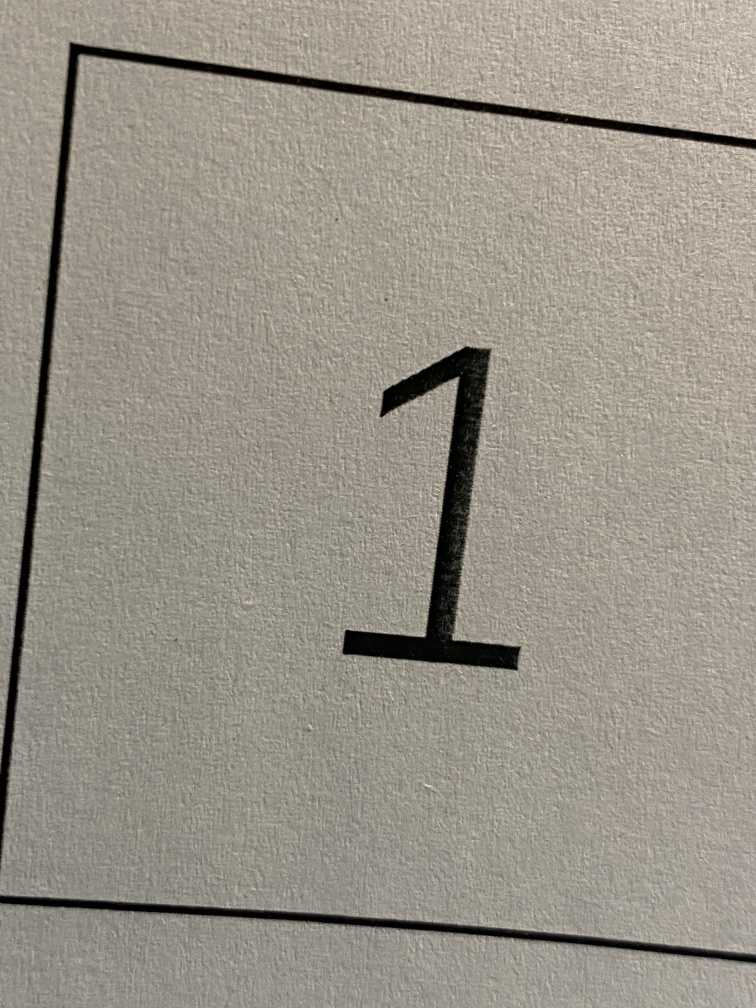one: (319, 311, 564, 717)
